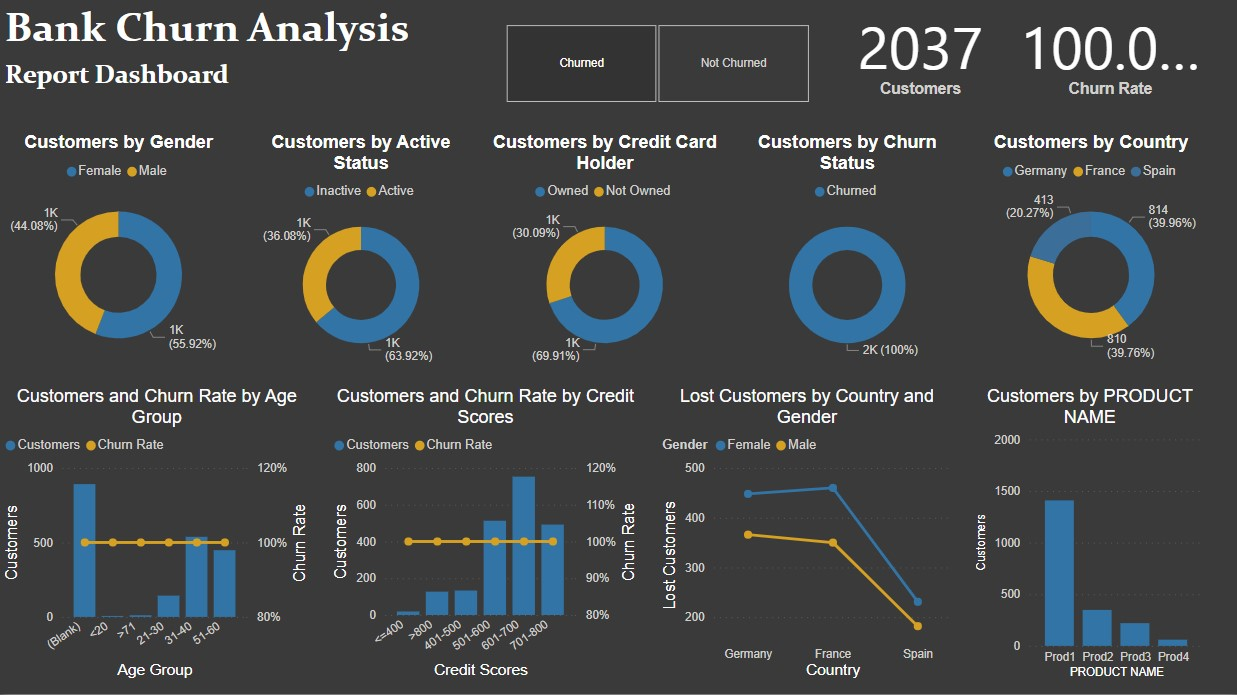

The page's visual inventory and layout, read from the dashboard file:
{"tool":"powerbi","page":{"name":"Page 1","canvas":[1280,720],"ordinal":0},"visuals":[{"type":"card","fields":{"Values":["CALCULATED MEASURES.Customers"]},"box":[843.2,0,215.4,115.3],"z":0},{"type":"card","fields":{"Values":["CALCULATED MEASURES.Churn Rate"]},"box":[1042.9,0,207.2,115.3],"z":1000},{"type":"donutChart","fields":{"Y":["CALCULATED MEASURES.Customers"],"Category":["CUSTOMER DATA.GENDER"]},"box":[0,139.7,245,245],"z":2000},{"type":"donutChart","fields":{"Category":["CUSTOMER DATA.ACTIVE STATUS"],"Y":["CALCULATED MEASURES.Customers"]},"box":[251,139.7,245,245],"z":3000},{"type":"donutChart","fields":{"Y":["CALCULATED MEASURES.Customers"],"Category":["CUSTOMER DATA.CREDIT CARD HOLDER"]},"box":[502.1,139.7,245,245],"z":4000},{"type":"donutChart","fields":{"Y":["CALCULATED MEASURES.Customers"],"Category":["CUSTOMER DATA.CHURN STATUS"]},"box":[753.1,139.7,245,245],"z":5000},{"type":"donutChart","fields":{"Y":["CALCULATED MEASURES.Customers"],"Category":["CUSTOMER DATA.COUNTRY"]},"box":[1004.2,139.7,245,245],"z":6000},{"type":"slicer","fields":{"Values":["CUSTOMER DATA.Churn Status"]},"box":[496.7,22,362.3,93.3],"z":7000},{"type":"lineClusteredColumnComboChart","fields":{"Y":["CALCULATED MEASURES.Customers"],"Category":["AGE GROUP.Age Group"],"Y2":["CALCULATED MEASURES.Churn Rate"]},"box":[0,402,323.8,307.4],"z":8000},{"type":"lineClusteredColumnComboChart","fields":{"Y":["CALCULATED MEASURES.Customers"],"Category":["Credit Score group.CREDIT SCORES"],"Y2":["CALCULATED MEASURES.Churn Rate"]},"box":[339.7,402,323.8,307.4],"z":9000},{"type":"lineChart","fields":{"Y":["CALCULATED MEASURES.Lost Customers"],"Category":["CUSTOMER DATA.Country"],"Series":["CUSTOMER DATA.Gender"]},"box":[679.4,402,308.7,307.4],"z":10000},{"type":"columnChart","fields":{"Y":["CALCULATED MEASURES.Customers"],"Category":["CUSTOMER DATA.PRODUCT NAME"]},"box":[1004,402,245,307],"z":11000},{"type":"textbox","box":[0,0,496.7,91.9],"z":12000},{"type":"textbox","box":[0,57.6,296.4,57.6],"z":13000}]}

Visuals, with their boxes in screenshot pixels (x1, y1, x2, y2), scaled from the page's 1280x720 canvas onto the 1237x695 screenshot:
card - CALCULATED MEASURES.Customers: <bbox>815, 0, 1023, 111</bbox>
card - CALCULATED MEASURES.Churn Rate: <bbox>1008, 0, 1208, 111</bbox>
donutChart - CALCULATED MEASURES.Customers x CUSTOMER DATA.GENDER: <bbox>0, 135, 237, 371</bbox>
donutChart - CUSTOMER DATA.ACTIVE STATUS x CALCULATED MEASURES.Customers: <bbox>243, 135, 479, 371</bbox>
donutChart - CALCULATED MEASURES.Customers x CUSTOMER DATA.CREDIT CARD HOLDER: <bbox>485, 135, 722, 371</bbox>
donutChart - CALCULATED MEASURES.Customers x CUSTOMER DATA.CHURN STATUS: <bbox>728, 135, 965, 371</bbox>
donutChart - CALCULATED MEASURES.Customers x CUSTOMER DATA.COUNTRY: <bbox>970, 135, 1207, 371</bbox>
slicer - CUSTOMER DATA.Churn Status: <bbox>480, 21, 830, 111</bbox>
lineClusteredColumnComboChart - CALCULATED MEASURES.Customers x AGE GROUP.Age Group: <bbox>0, 388, 313, 685</bbox>
lineClusteredColumnComboChart - CALCULATED MEASURES.Customers x Credit Score group.CREDIT SCORES: <bbox>328, 388, 641, 685</bbox>
lineChart - CALCULATED MEASURES.Lost Customers x CUSTOMER DATA.Country: <bbox>657, 388, 955, 685</bbox>
columnChart - CALCULATED MEASURES.Customers x CUSTOMER DATA.PRODUCT NAME: <bbox>970, 388, 1207, 684</bbox>
textbox: <bbox>0, 0, 480, 89</bbox>
textbox: <bbox>0, 56, 286, 111</bbox>
